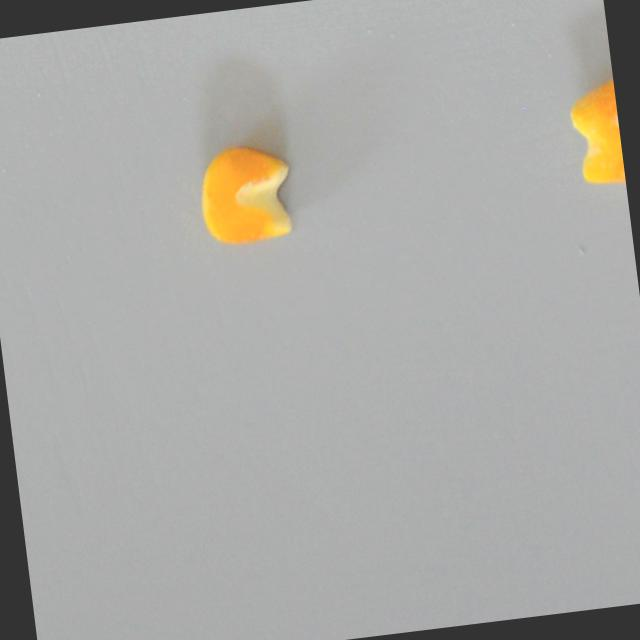no_canjicado: (195, 138, 297, 246)
pelicula: (563, 71, 625, 188)
